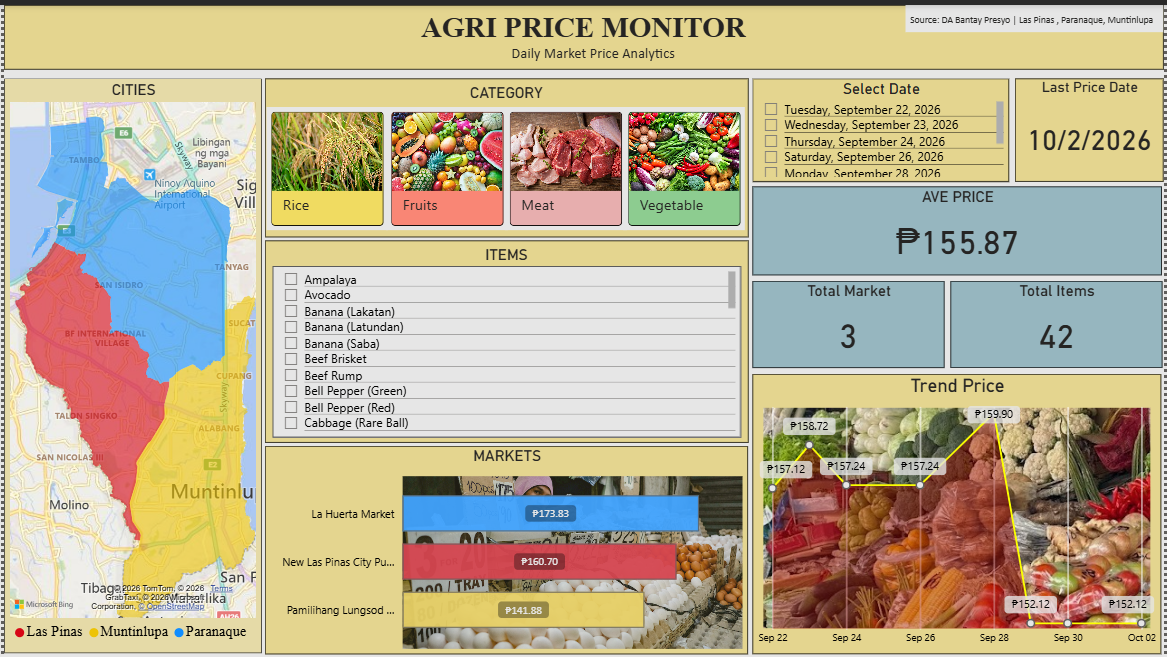

The dashboard page shown, as its layout file describes it:
{"tool":"powerbi","page":{"name":"Market Price Overview","canvas":[1280,720],"ordinal":0},"visuals":[{"type":"textbox","box":[288,260,534,223],"z":0},{"type":"textbox","box":[0,0,1280.5,71.2],"z":1000},{"type":"textbox","box":[995.5,0,284.9,29.8],"z":2000},{"type":"card","title":"AVE PRICE","fields":{"Values":["agriproject_db vw_price_analysis.Average Price"]},"box":[826.6,200.4,452.2,97.7],"z":3000},{"type":"card","title":"Total Items ","fields":{"Values":["agriproject_db vw_price_analysis.Items Covered"]},"box":[1044.7,304.9,234.1,95.9],"z":4000},{"type":"card","title":"Total Market","fields":{"Values":["agriproject_db vw_price_analysis.Markets covered"]},"box":[826.6,304.8,212,96.1],"z":5000},{"type":"card","title":"Last Price Date","fields":{"Values":["agriproject_db vw_price_analysis.Lates Price Date"]},"box":[1116.5,81.2,164,114.3],"z":6000},{"type":"slicer","title":"Select Date","fields":{"Values":["agriproject_db vw_price_analysis.price_date"]},"box":[826.6,81.2,283.3,114.3],"z":7000},{"type":"slicer","title":"ITEMS","fields":{"Values":["agriproject_db vw_price_analysis.item_name"]},"box":[297,288,517,189],"z":8000},{"type":"filledMap","title":"CITIES","fields":{"Category":["agriproject_db vw_price_analysis.city_name"],"Series":["agriproject_db vw_price_analysis.city_name"]},"box":[0,81.2,284.9,634.4],"z":9000},{"type":"lineChart","title":"Trend Price","fields":{"Y":["agriproject_db vw_price_analysis.Average Price"],"Category":["agriproject_db vw_price_analysis.price_date.Variation.Date Hierarchy.Year","agriproject_db vw_price_analysis.price_date.Variation.Date Hierarchy.Quarter","agriproject_db vw_price_analysis.price_date.Variation.Date Hierarchy.Month","agriproject_db vw_price_analysis.price_date.Variation.Date Hierarchy.Day"]},"box":[826.8,408.2,451.5,309.3],"z":10000},{"type":"barChart","title":"MARKETS","fields":{"Category":["agriproject_db vw_price_analysis.market_name"],"Y":["agriproject_db vw_price_analysis.Average Price"]},"box":[288.2,487,533.4,230.3],"z":11000},{"type":"textbox","box":[288,81,534,175],"z":12000},{"type":"advancedSlicerVisual","fields":{"Values":["agriproject_db vw_price_analysis.category_name"]},"box":[422.1,112.1,134,136],"z":13000},{"type":"advancedSlicerVisual","fields":{"Values":["agriproject_db vw_price_analysis.category_name"]},"box":[553.1,112.1,134,136],"z":14000},{"type":"advancedSlicerVisual","fields":{"Values":["agriproject_db vw_price_analysis.category_name"]},"box":[290.1,112.1,134,136],"z":15000},{"type":"advancedSlicerVisual","fields":{"Values":["agriproject_db vw_price_analysis.category_name"]},"box":[684.1,112.1,134,136],"z":16000}]}

Visuals, with their boxes in screenshot pixels (x1, y1, x2, y2), scaled from the page's 1280x720 canvas onto the 1167x657 screenshot:
textbox: bbox(263, 237, 749, 441)
textbox: bbox(0, 0, 1166, 65)
textbox: bbox(908, 0, 1166, 27)
"AVE PRICE" card: bbox(754, 183, 1166, 272)
"Total Items " card: bbox(952, 278, 1166, 366)
"Total Market" card: bbox(754, 278, 947, 366)
"Last Price Date" card: bbox(1018, 74, 1166, 178)
"Select Date" slicer: bbox(754, 74, 1012, 178)
"ITEMS" slicer: bbox(271, 263, 742, 435)
"CITIES" filledMap: bbox(0, 74, 260, 653)
"Trend Price" lineChart: bbox(754, 372, 1165, 655)
"MARKETS" barChart: bbox(263, 444, 749, 655)
textbox: bbox(263, 74, 749, 234)
advancedSlicerVisual - agriproject_db vw_price_analysis.category_name: bbox(385, 102, 507, 226)
advancedSlicerVisual - agriproject_db vw_price_analysis.category_name: bbox(504, 102, 626, 226)
advancedSlicerVisual - agriproject_db vw_price_analysis.category_name: bbox(264, 102, 387, 226)
advancedSlicerVisual - agriproject_db vw_price_analysis.category_name: bbox(624, 102, 746, 226)
